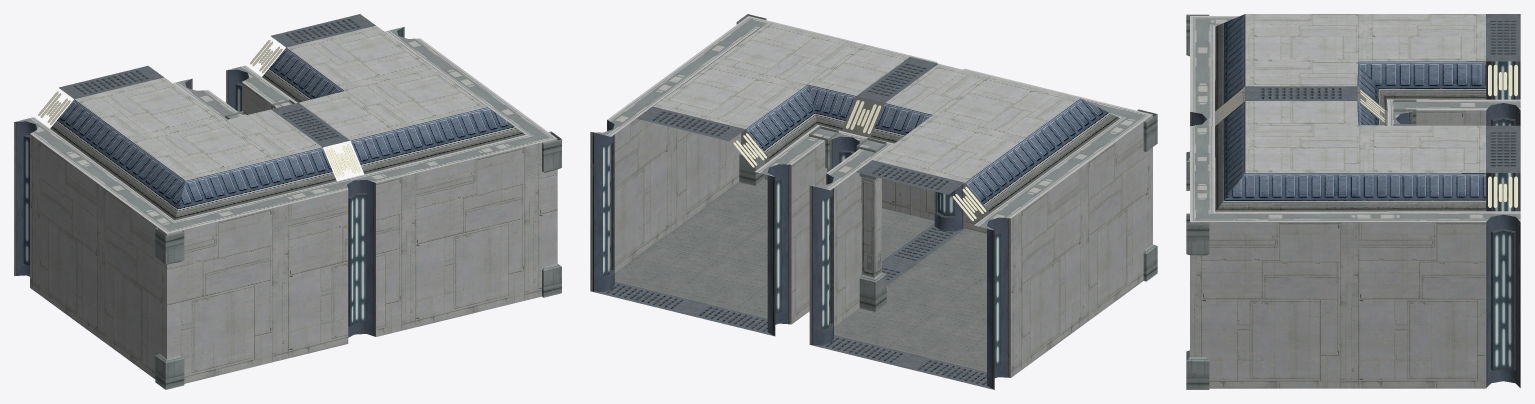
File: ply_corl_cloning_facility_s01_r2_hallcurve_mesh_r2.fbx
3 renders of one model, left to right at view 1: azimuth 30°, elevation 25°; view 2: azimuth 150°, elevation 25°; view 3: azimuth 270°, elevation 25°, orthographic. The views are drawn at different scales.
Parts seen in each view (by area): view 1: mesh_node; view 2: mesh_node; view 3: mesh_node.
Part boxes in pixels (left/top/right/bottom): mesh_node: left=14, top=14, right=561, bottom=389; mesh_node: left=590, top=14, right=1157, bottom=389; mesh_node: left=1186, top=14, right=1520, bottom=389.
Bounding box in the file's own units: 9.98 × 4.28 × 6.75.
